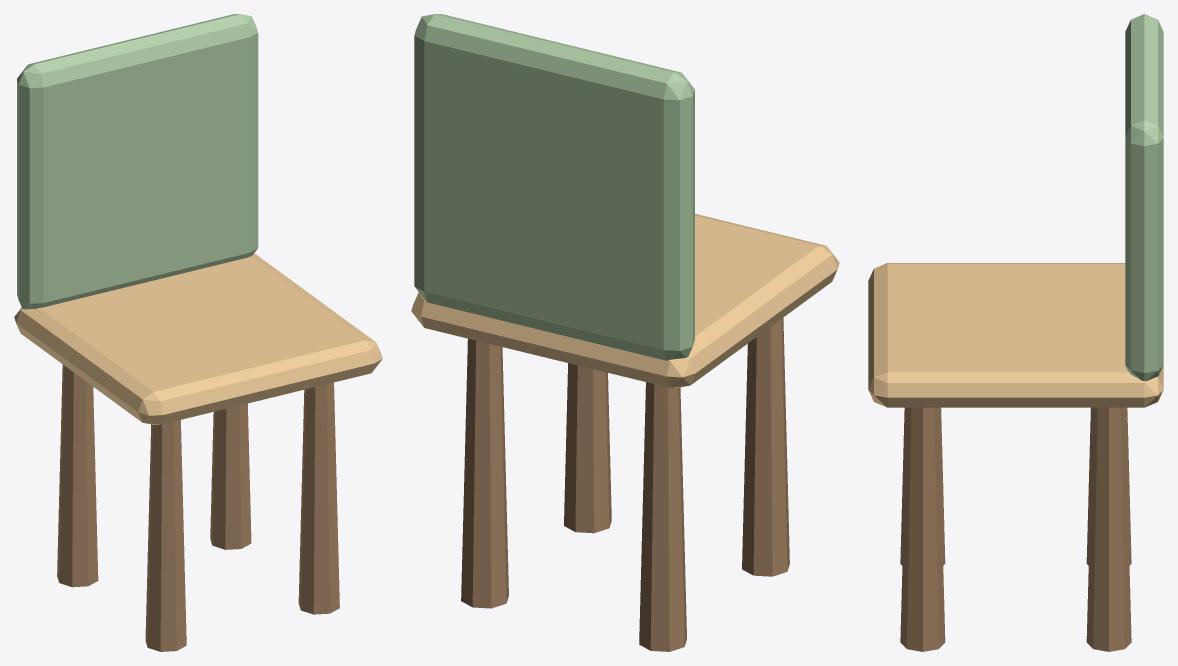
The model's file is cozy-home-interiors-dining-chair-35257d65.glb.
3 views of the same model, side by side, from view 1: azimuth 30°, elevation 25°; view 2: azimuth 150°, elevation 25°; view 3: azimuth 270°, elevation 25° (orthographic). The views are drawn at different scales.
Parts seen in each view (by area): view 1: dining-chair; view 2: dining-chair; view 3: dining-chair.
Part boxes in pixels (x1=…): dining-chair: x1=14, y1=14, x2=382, y2=651; dining-chair: x1=411, y1=14, x2=839, y2=651; dining-chair: x1=868, y1=14, x2=1163, y2=651.
Bounding box in the file's own units: 0.46 × 0.92 × 0.46.
